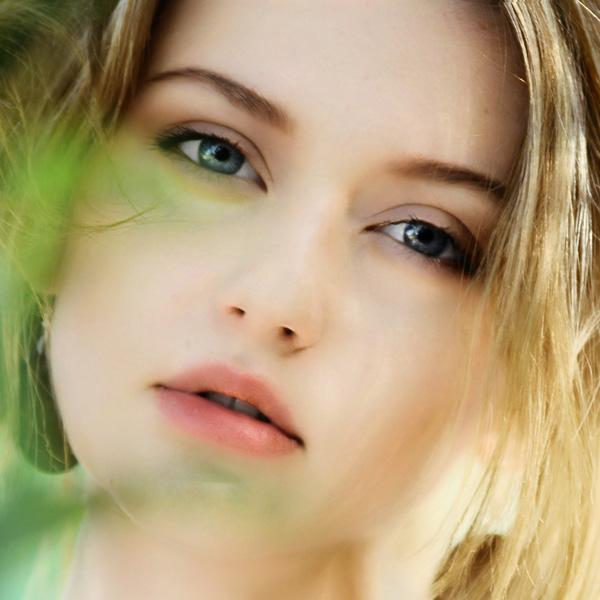Eyes: (354, 192, 488, 292), (146, 105, 279, 203)
